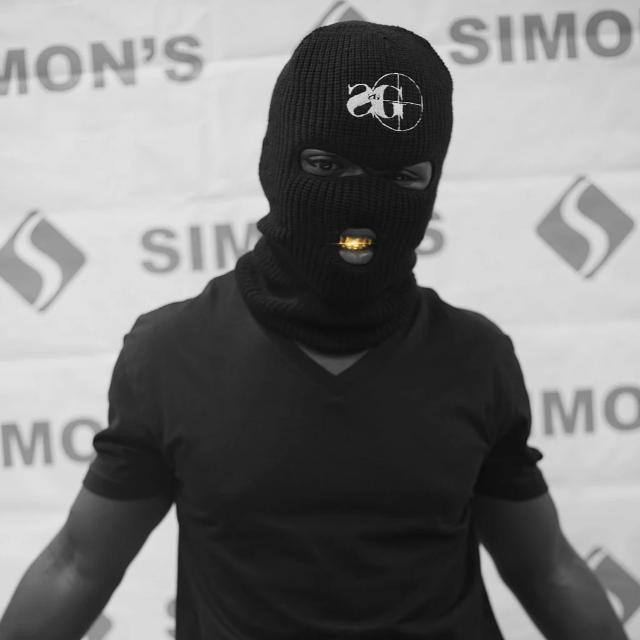criminal: (0, 20, 629, 640)
